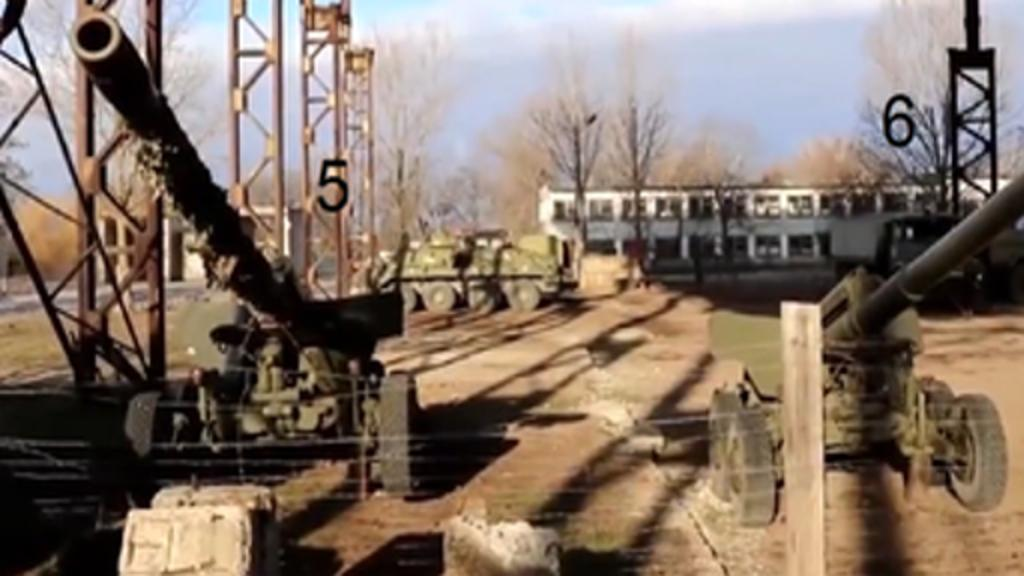APC-IFV: (358, 234, 560, 310)
ART: (64, 14, 420, 484), (704, 150, 1022, 526)
